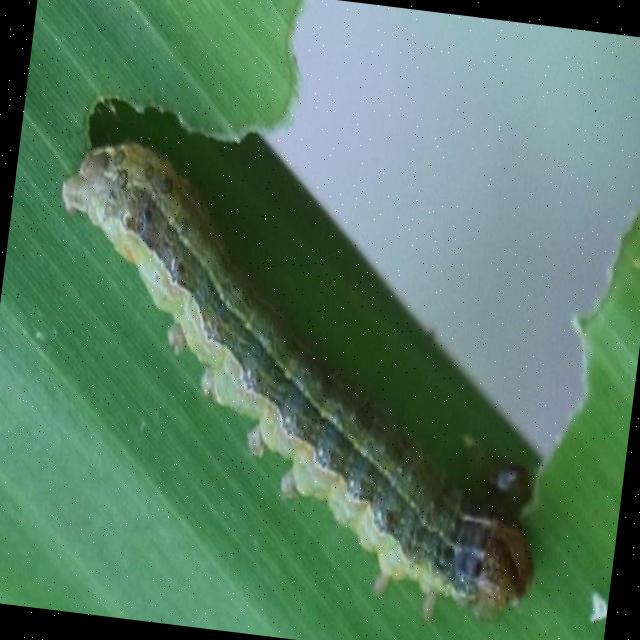worm: (15, 124, 584, 634)
